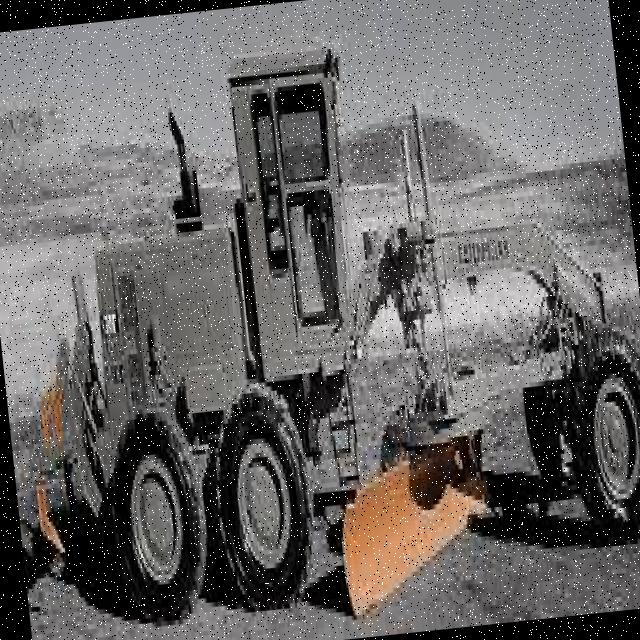Grader: (13, 1, 640, 640)
